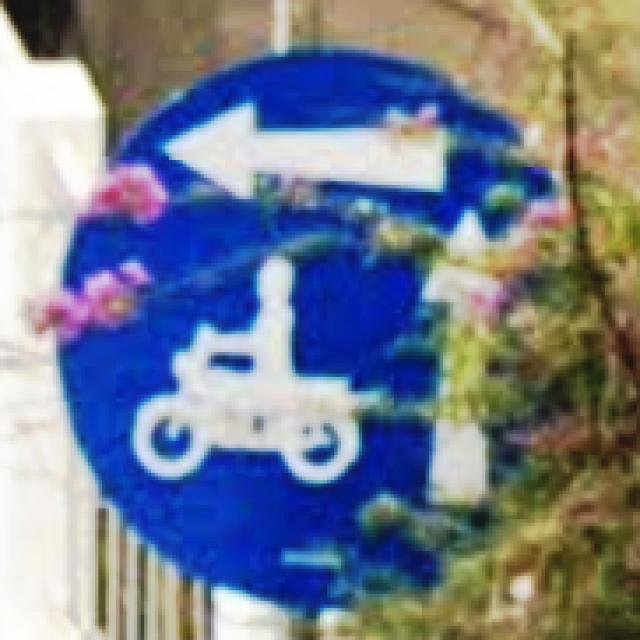twostageturn: (42, 43, 563, 612)
